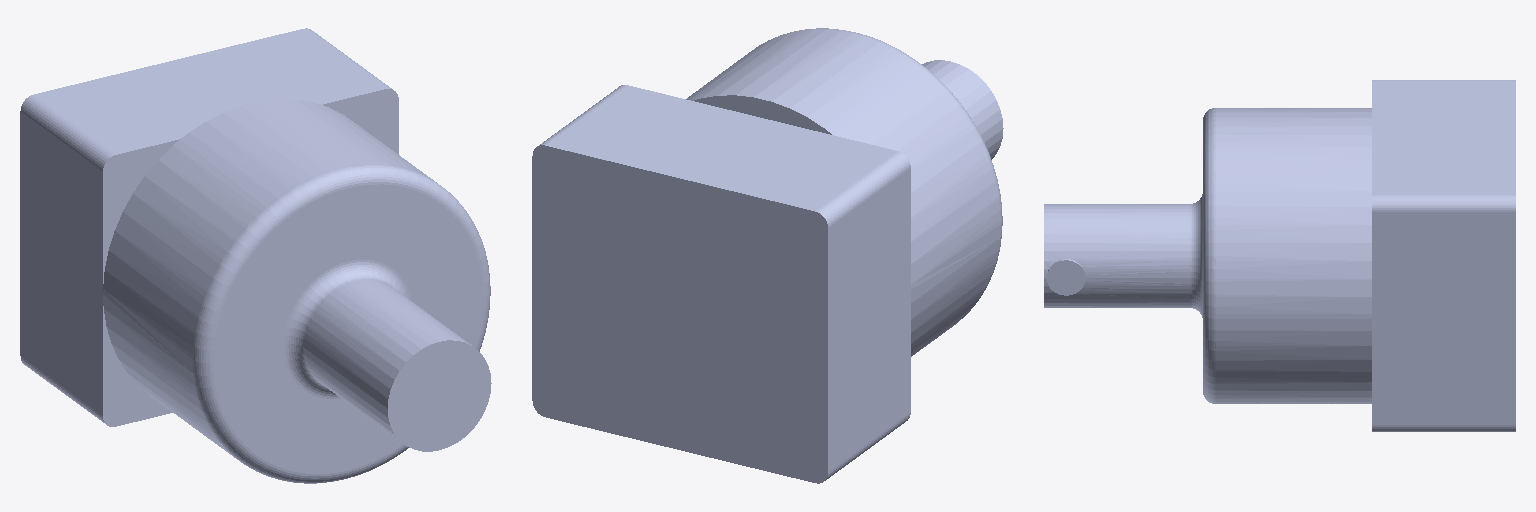
robot.urdf — model_base:
<?xml version="1.0" encoding="utf-8"?>
<!-- This URDF was automatically created by SolidWorks to URDF Exporter! Originally created by [author] ([email redacted]) 
     Commit Version: 1.6.0-4-g7f85cfe  Build Version: 1.6.7995.38578
     For more information, please see http://wiki.ros.org/sw_urdf_exporter -->
<robot name="model_base">

    <link name="base"> 
    </link>

    <link name="model_base">
        <inertial>
            <origin xyz="5.4754E-06 -0.38086 4.4983E-09" rpy="0 0 0" />
            <mass value="294.14" />
            <inertia ixx="25.189" ixy="0.0010536" ixz="-1.5964E-07" iyy="17.672" iyz="7.0908E-07" izz="26.383" />
        </inertial>
        <visual>
            <origin xyz="0 0 0" rpy="0 0 0" />
            <geometry>
                <mesh filename="package://pos_kinematic_ctrl/meshes/model_base.STL" />
            </geometry>
            <material name="">
                <color rgba="0.79216 0.81961 0.93333 1" />
            </material>
        </visual>
        <collision>
            <origin xyz="0 0 0" rpy="0 0 0" />
            <geometry>
                <mesh filename="package://pos_kinematic_ctrl/meshes/model_base.STL" />
            </geometry>
        </collision>
    </link>

    <joint name="fixed" type="fixed">
        <parent link="base"/>
        <child link="model_base"/>
    </joint>

</robot>

--- Render facts (derived) ---
The picture shows the robot from 3 angles, left to right: view 1: azimuth 30°, elevation 25°; view 2: azimuth 150°, elevation 25°; view 3: azimuth 270°, elevation 25°; orthographic projection.
Robot: model_base — 2 links, 1 joints (1 fixed); root link base; default pose: every joint at zero.
Links seen in each view (by area): view 1: model_base; view 2: model_base; view 3: model_base.
Link boxes in pixels (x1,y1,x2,y2): model_base: [20, 28, 491, 483]; model_base: [532, 28, 1003, 483]; model_base: [1044, 80, 1515, 431].
Bounding box of the posed robot: 0.683 × 1.08 × 0.683 m (x, y, z).
Meshes: 1 distinct files referenced, 1 mesh visuals loaded (1 binary STL).